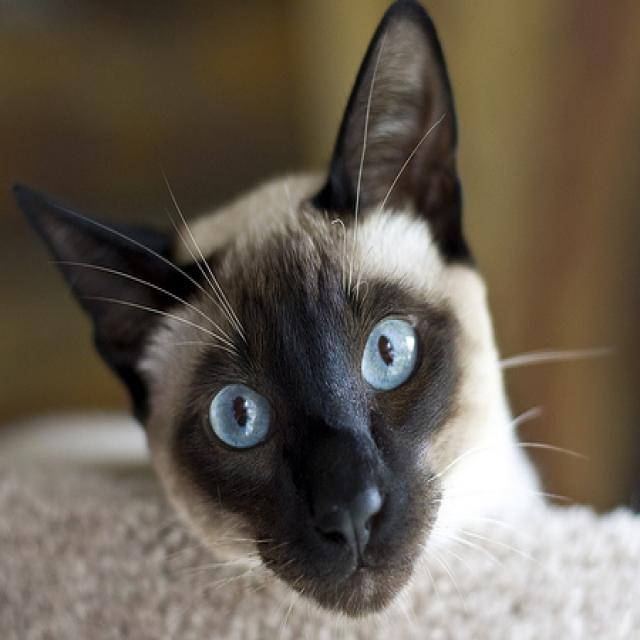Siamese: (4, 0, 545, 624)
